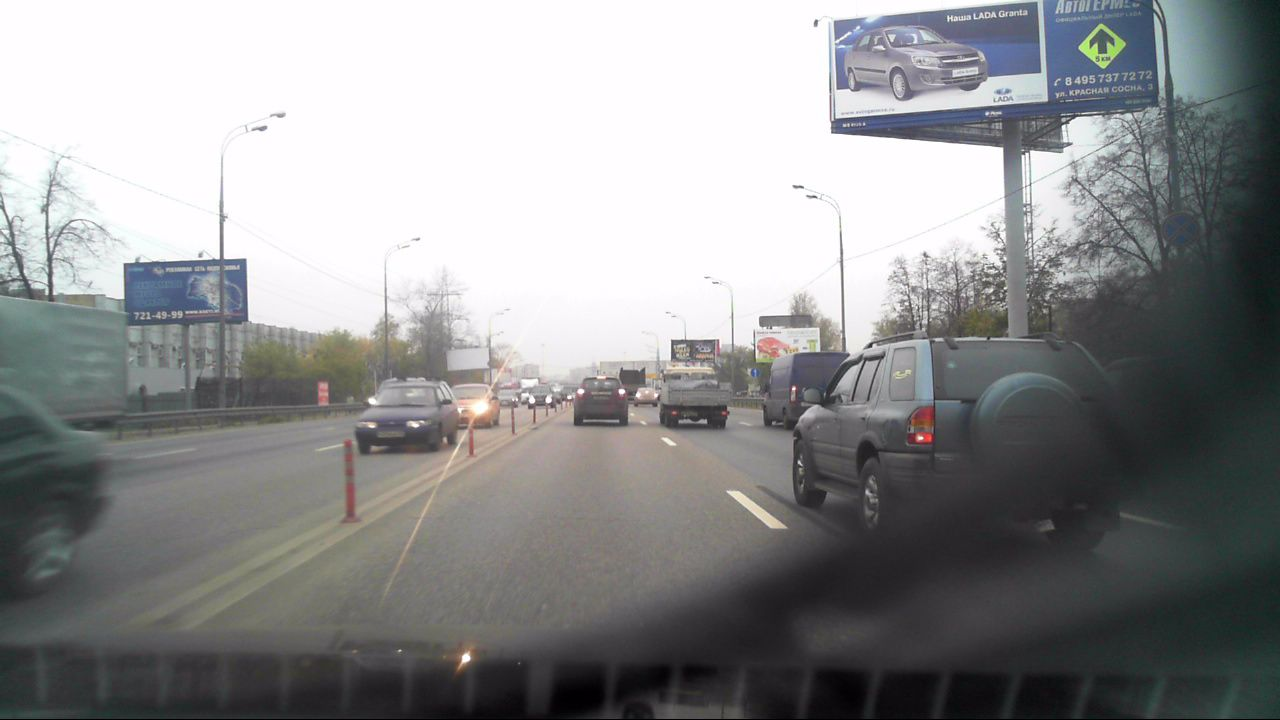No Parking: (1162, 211, 1199, 248)
